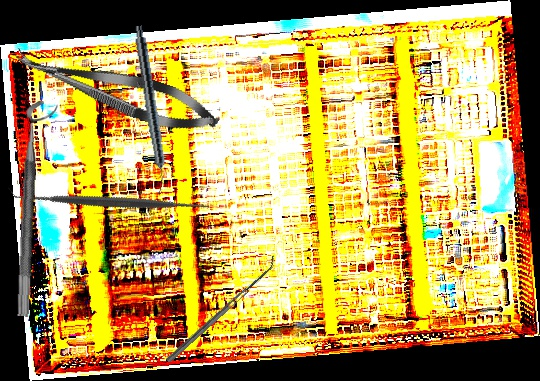Fixation Ring: (15, 100, 59, 318)
Handpiece: (129, 24, 172, 195)
Micro Scissor: (7, 36, 225, 144)
Spatula Surgical: (7, 97, 216, 306), (162, 254, 281, 364)
